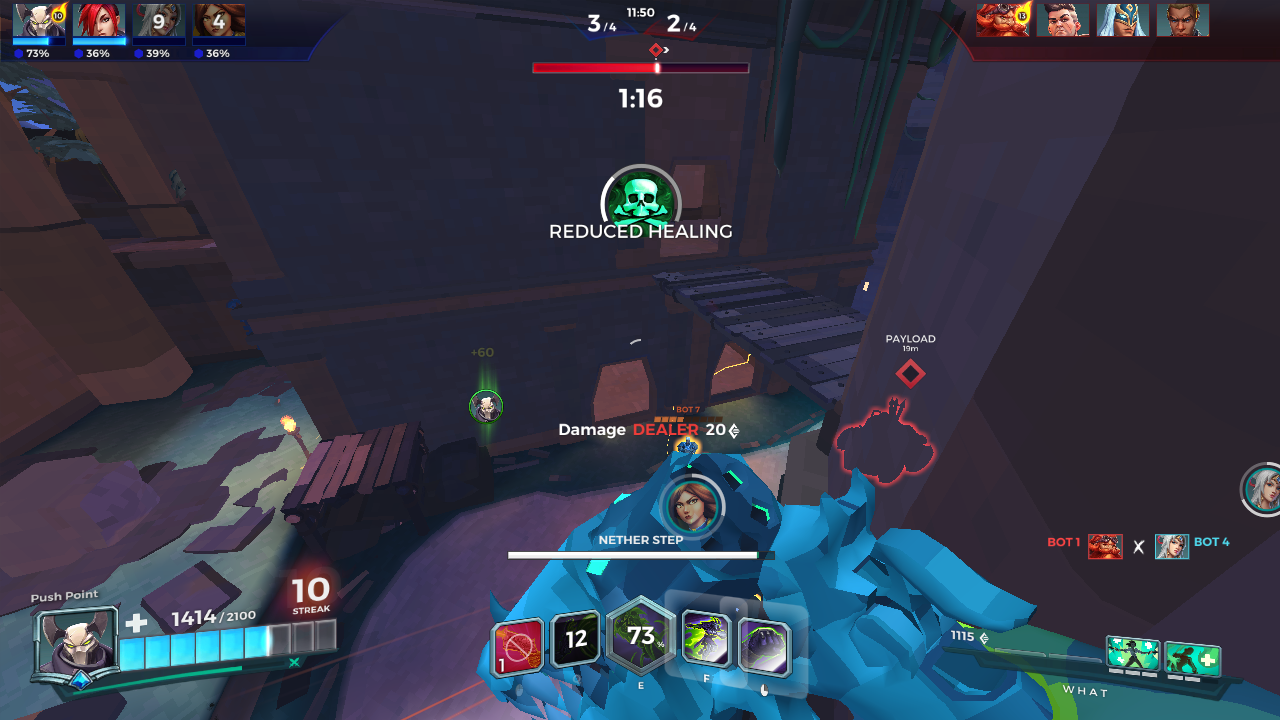model: (671, 435, 695, 459)
